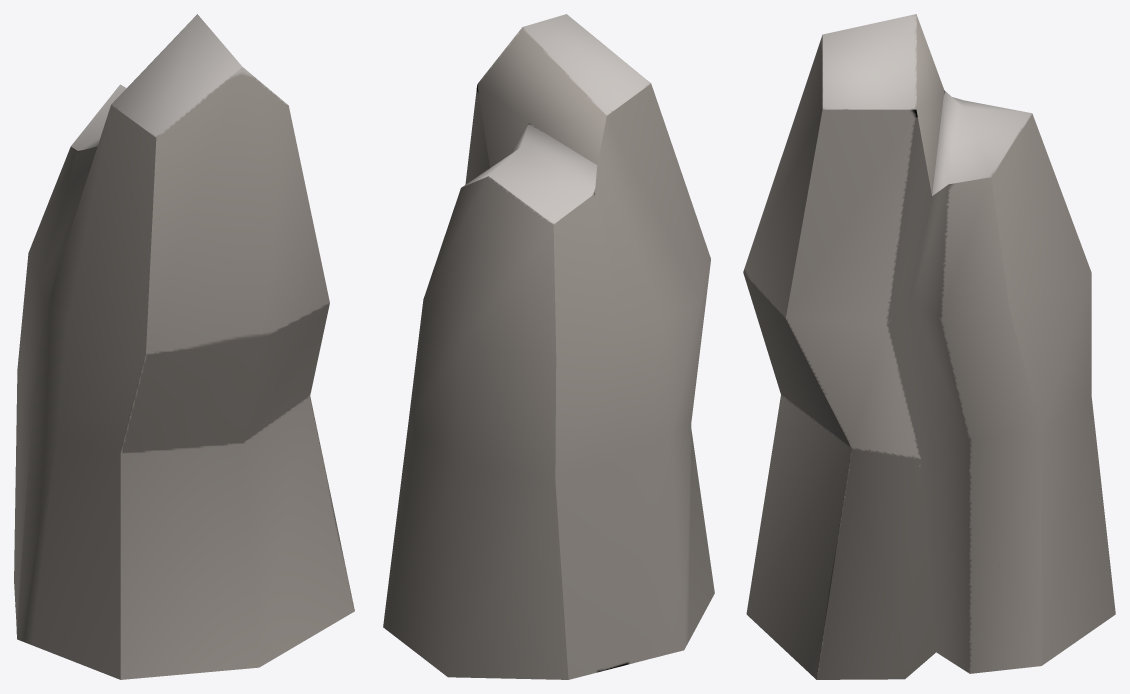
Rendered from cliff003.fbx.
The picture shows the model from 3 angles, left to right: view 1: azimuth 30°, elevation 25°; view 2: azimuth 150°, elevation 25°; view 3: azimuth 270°, elevation 25°; orthographic projection. The views are drawn at different scales.
Visible parts, largest first — view 1: cliff3; view 2: cliff3; view 3: cliff3.
Part boxes in pixels (box(x1,y1,x2,y2)): cliff3: box(14, 14, 354, 679); cliff3: box(383, 14, 714, 679); cliff3: box(743, 14, 1115, 679).
Size of the model in its own units: 31.93 by 63.65 by 35.21.
